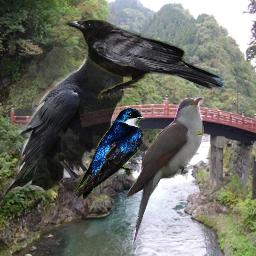Crow: (0, 47, 147, 199), (64, 18, 225, 100)
Cuckoo: (125, 97, 204, 248)
Swallow: (73, 108, 145, 200)
